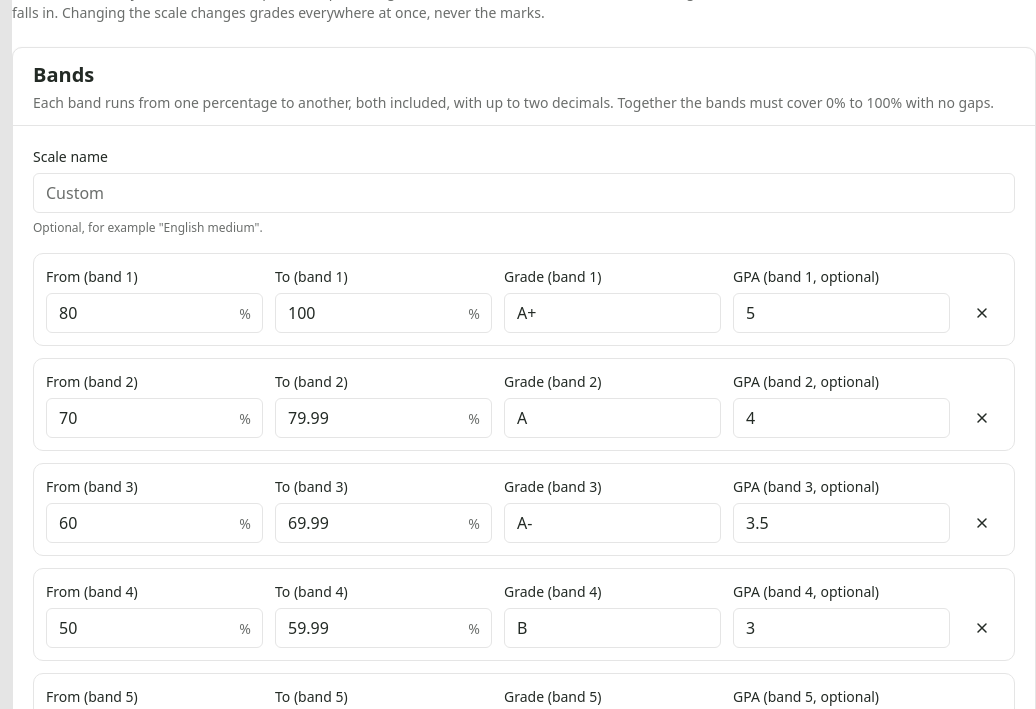
it: grading scale page › shows what is wrong on the band before saving
Replace the text in the number field labelled "To (band 2)" with "78" at (384, 418), box [275,398,492,438]
(page scrolled)
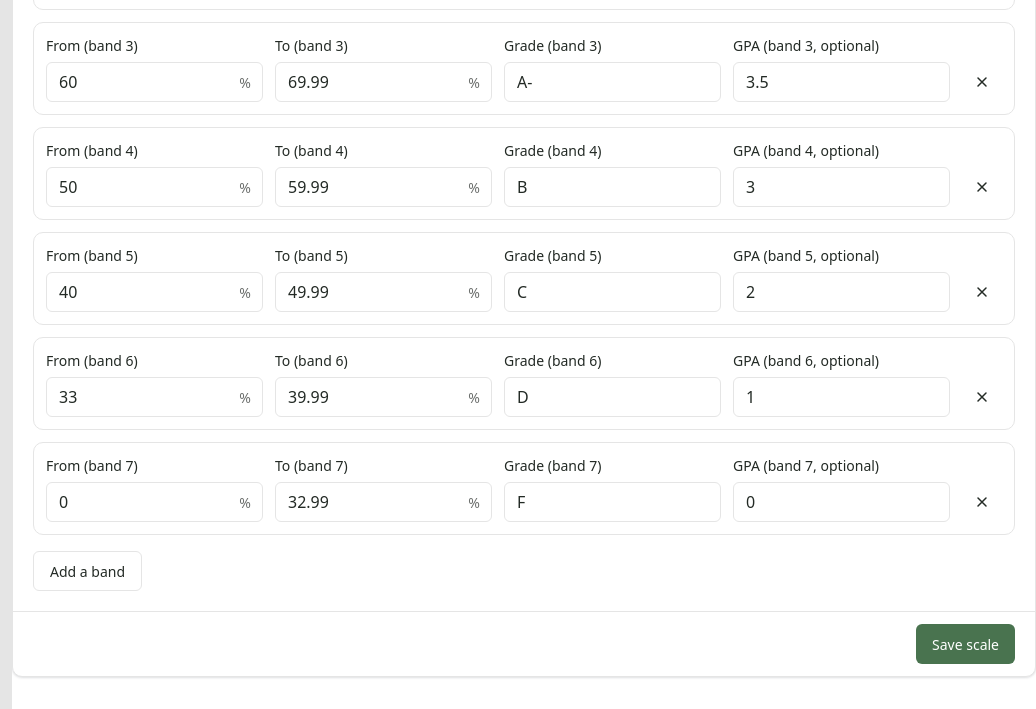
Click the button "Save scale".
click(966, 644)  # box [916,624,1015,664]
(page scrolled)
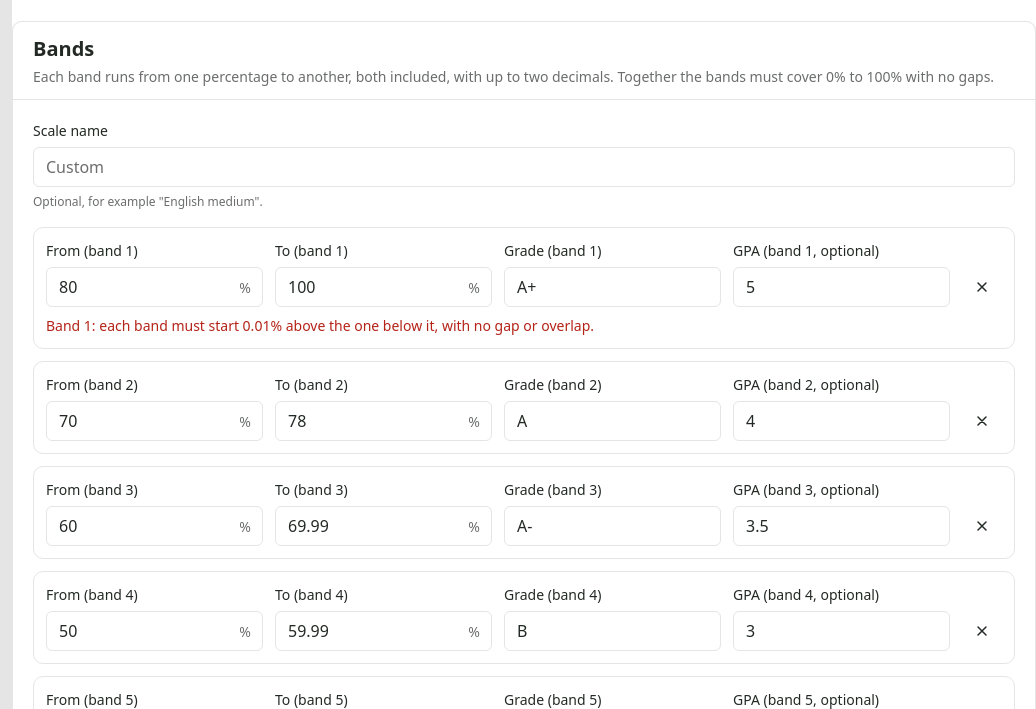
expect the message shows "Band 1: each band must start 0.01% above the one below it, with no gap or overlap.": met, box [46,316,594,335]
